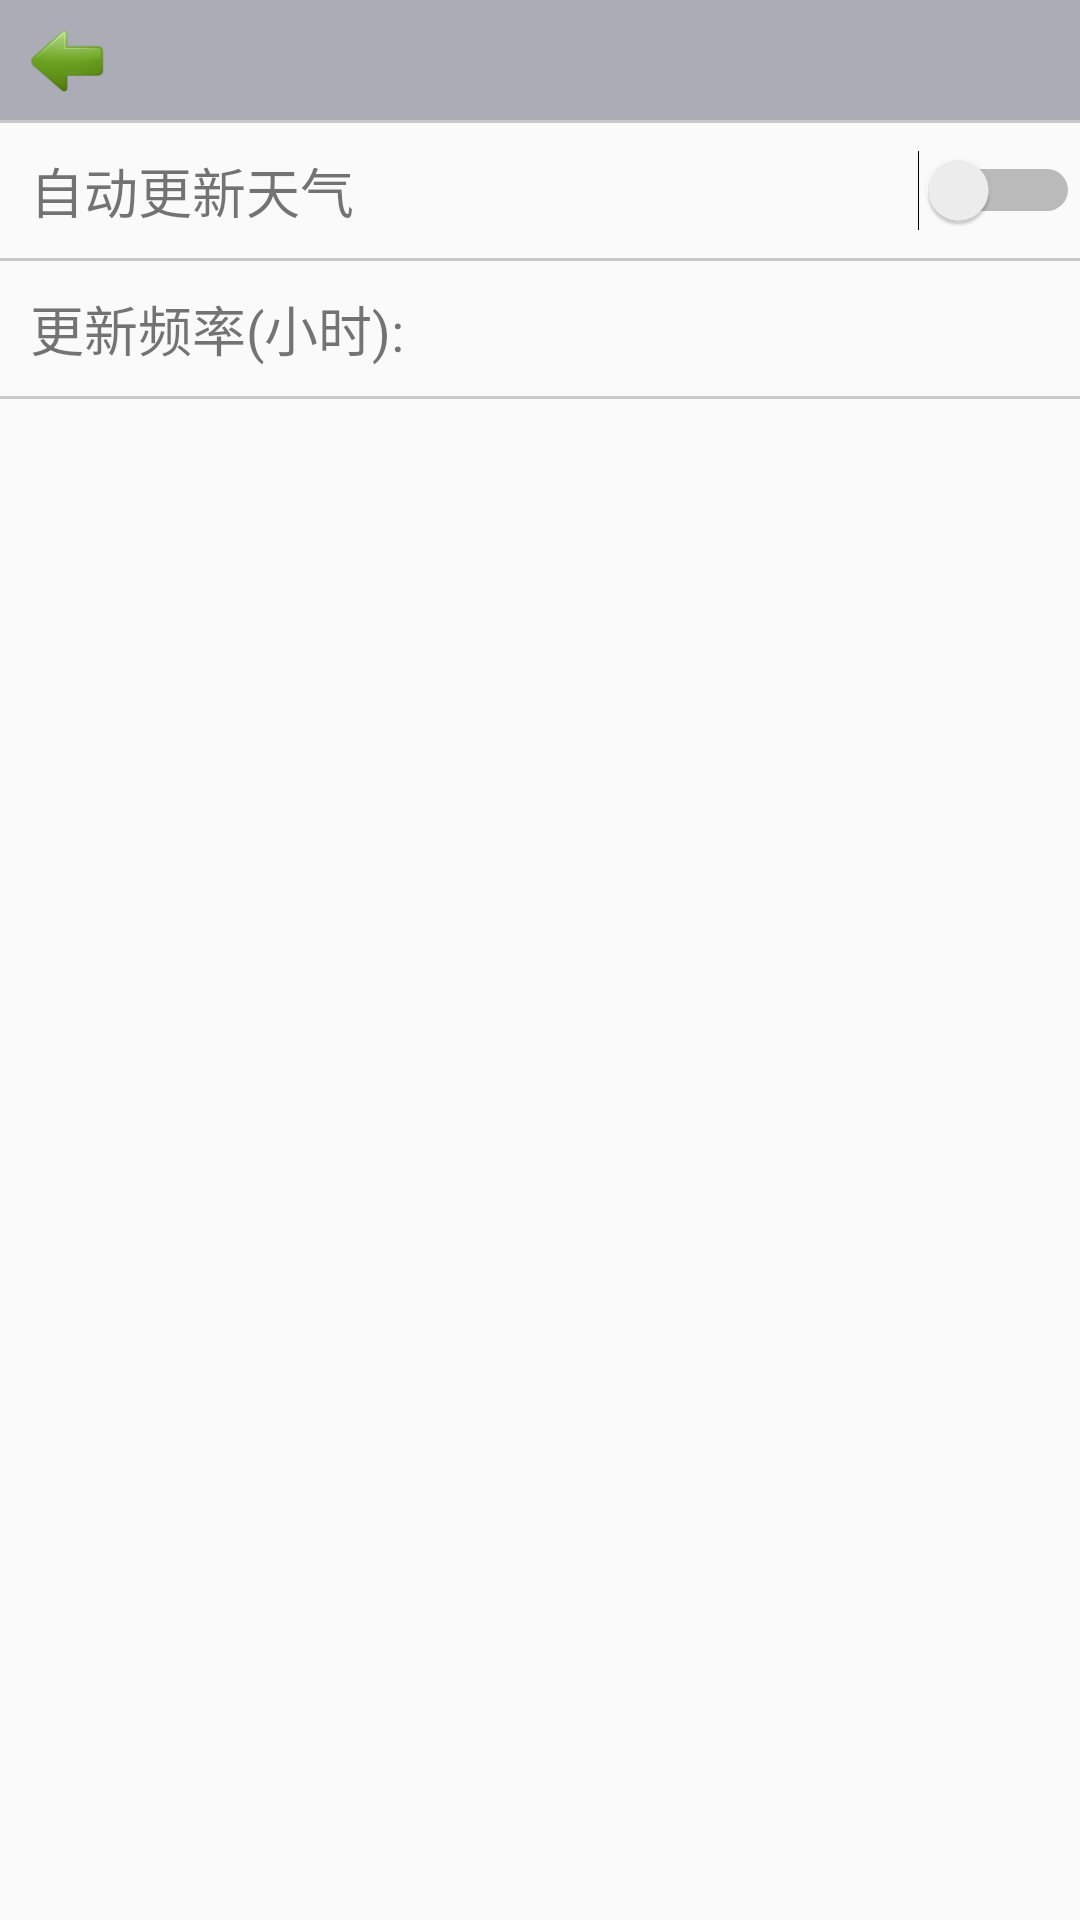

Icon bounding boxes for this 1080×1920 phone screenshot, format (x1, y1, x2, y2):
back: (31, 31, 104, 92)
